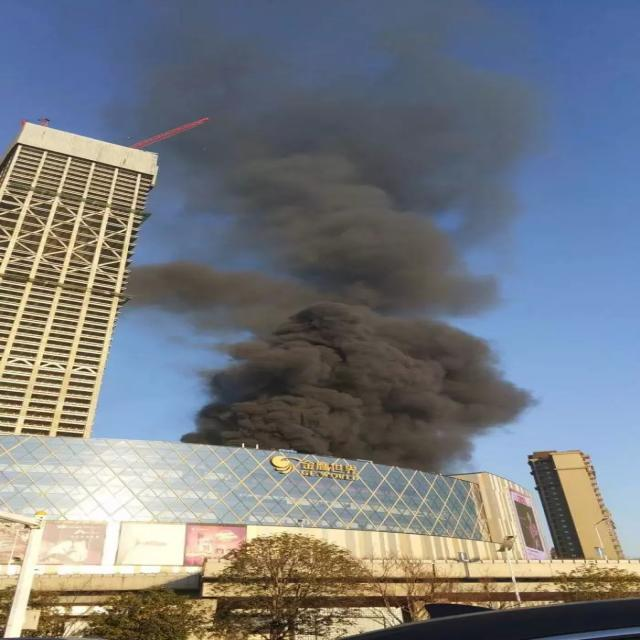Smoke: (131, 49, 547, 473)
